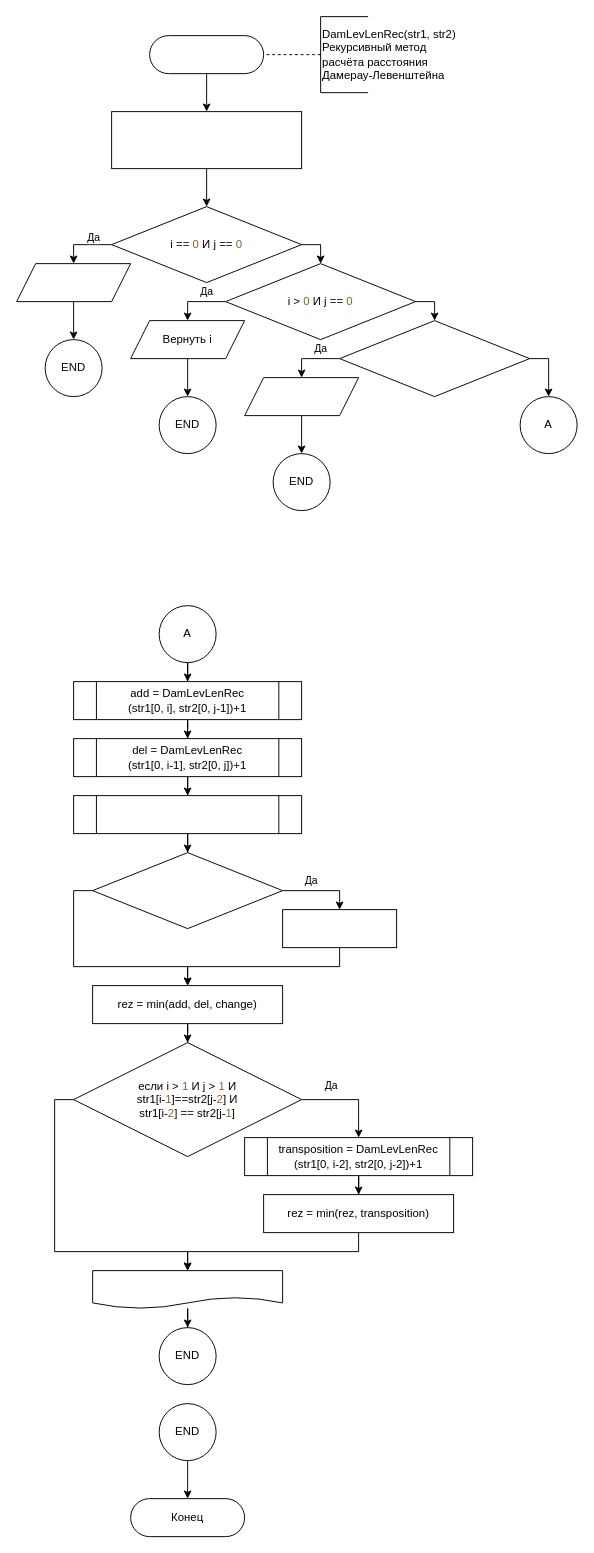
This 594x1553 diagram has some shape labels left out. Here are the shapes that lost their labels. From the top down, the centre of each, then its label:
(206,54): Начало
(206,140): i = str1.length(); j = str2.length();
(73,282): Вернуть 0
(434,358): i == 0 И j > 0
(301,396): Вернуть j
(187,814): change = DamLevLenRec (str1[0, i-1], str2[0, j-1])+1
(187,890): если str1[j-1] != str2[i-1]
(339,928): change++
(187,1289): Вернуть rez
